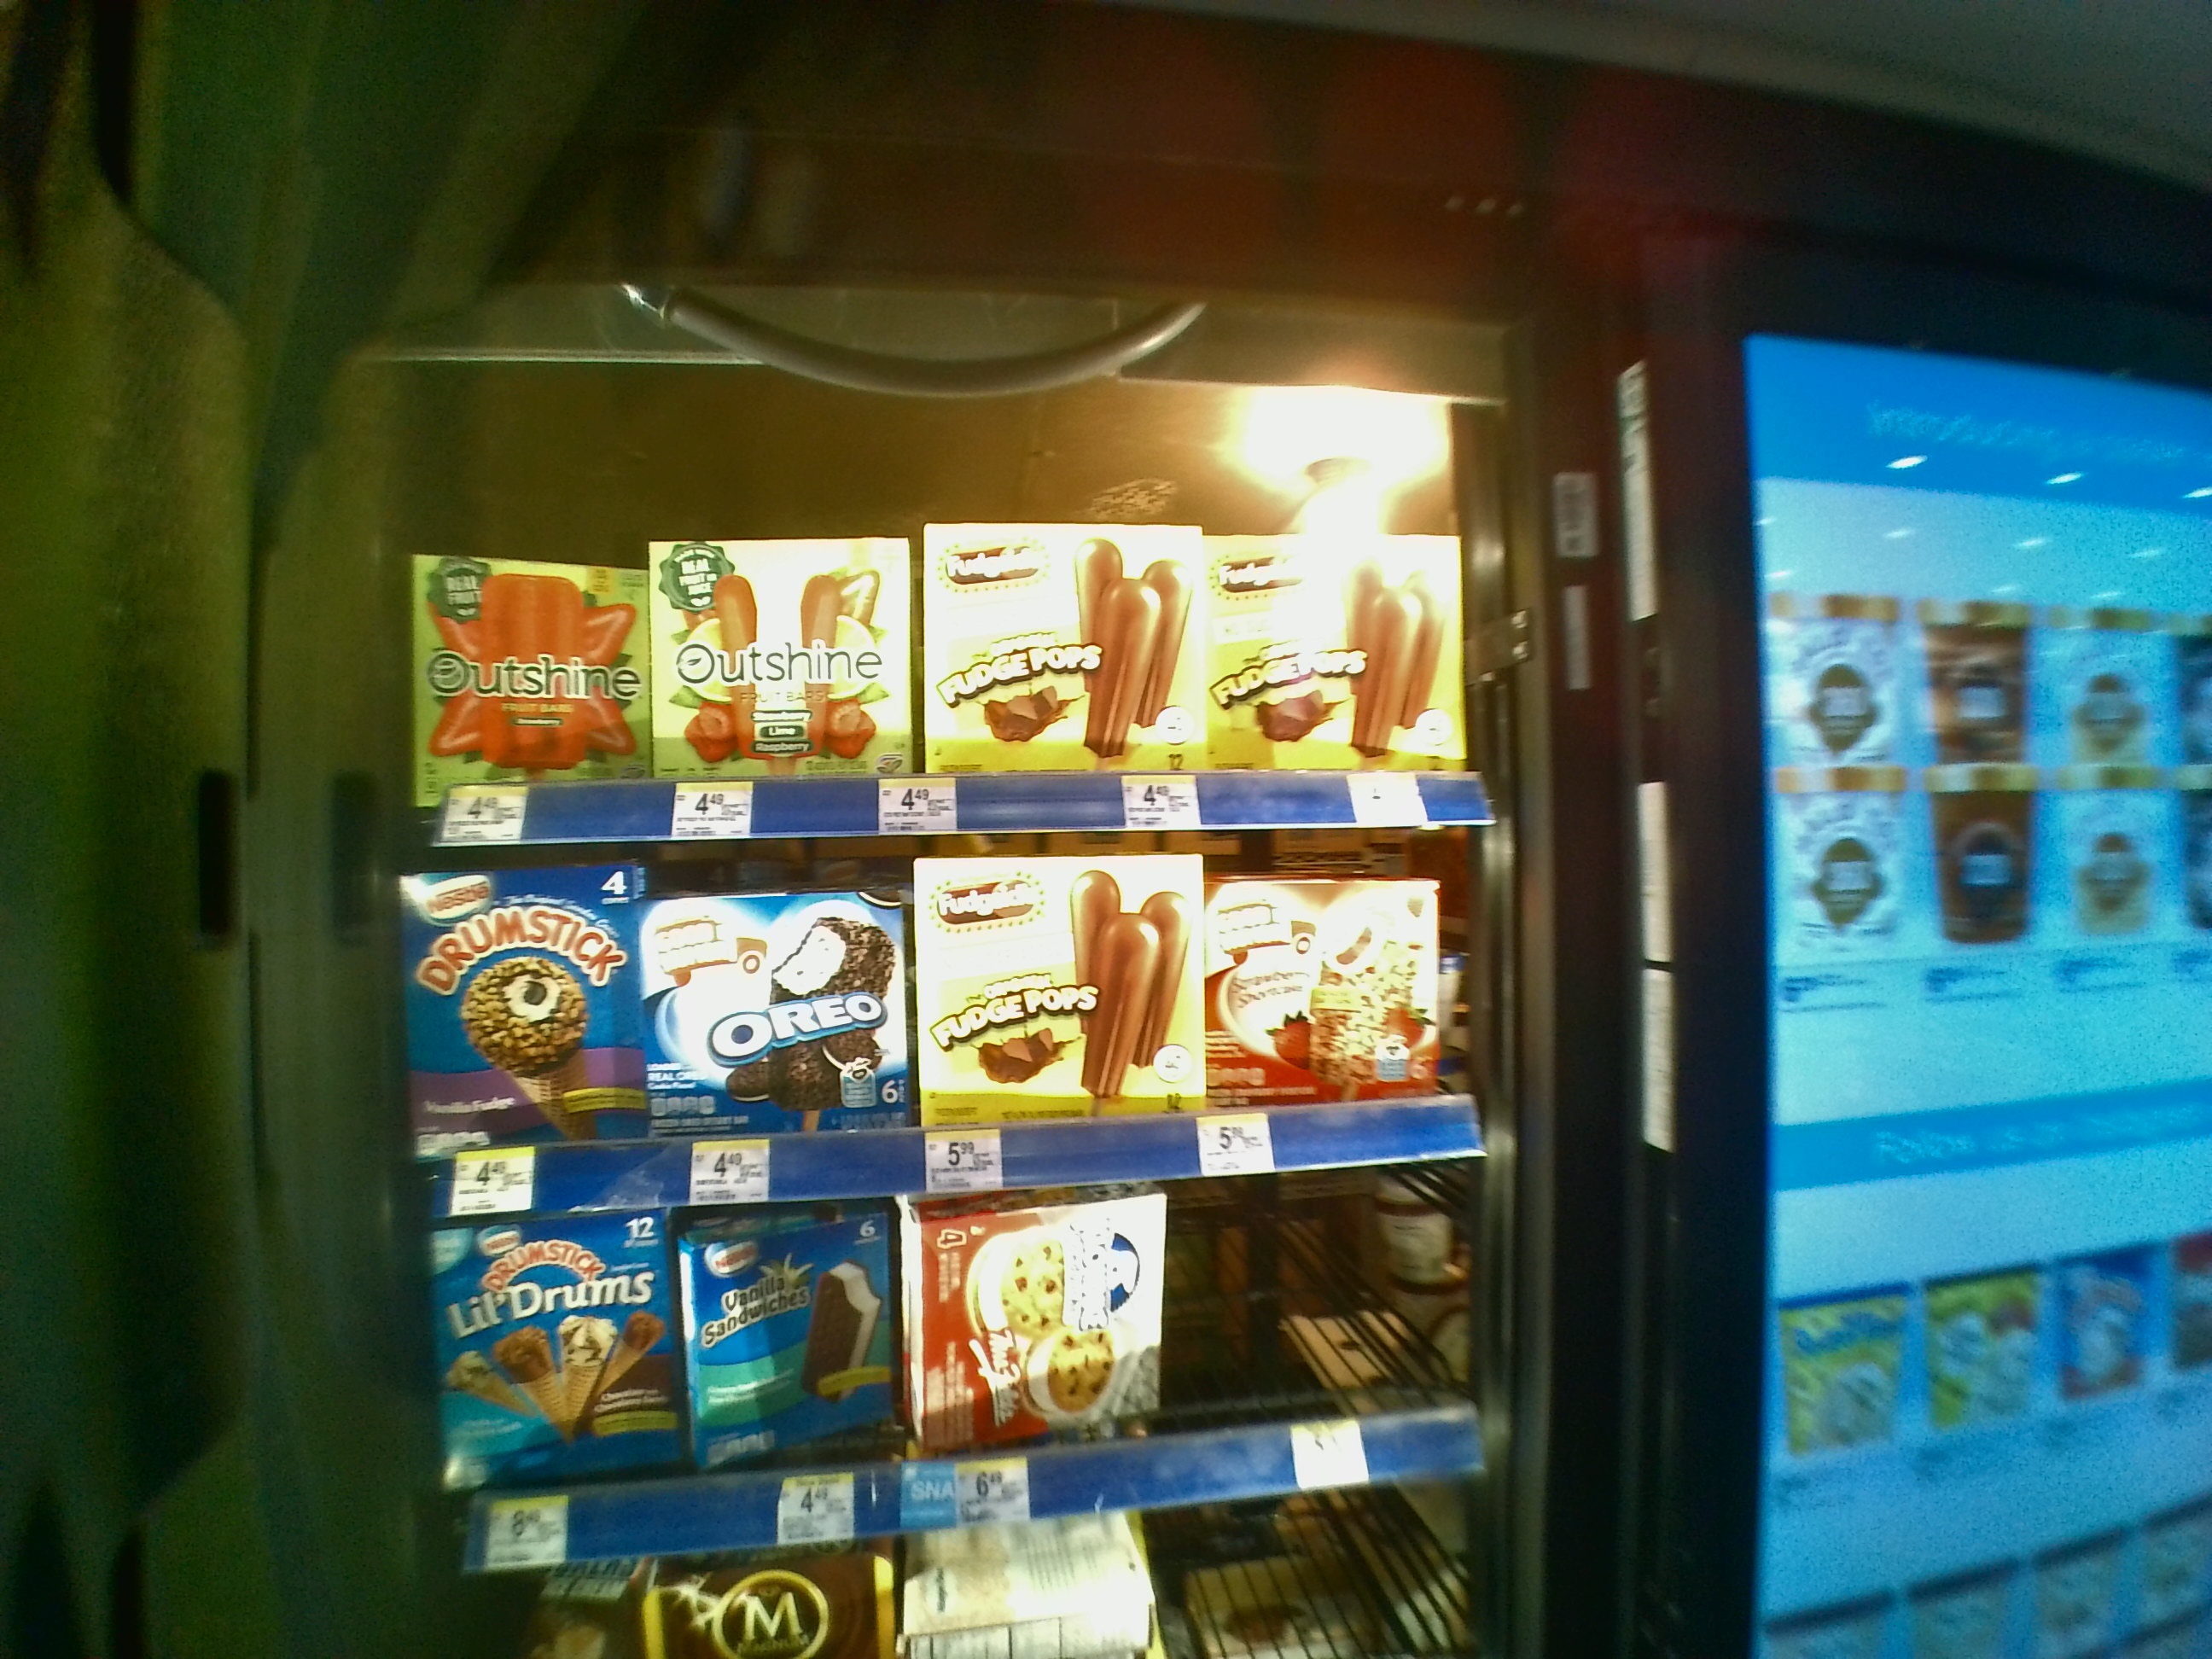shelf: (380, 443, 1484, 847), (388, 863, 1489, 1215)
